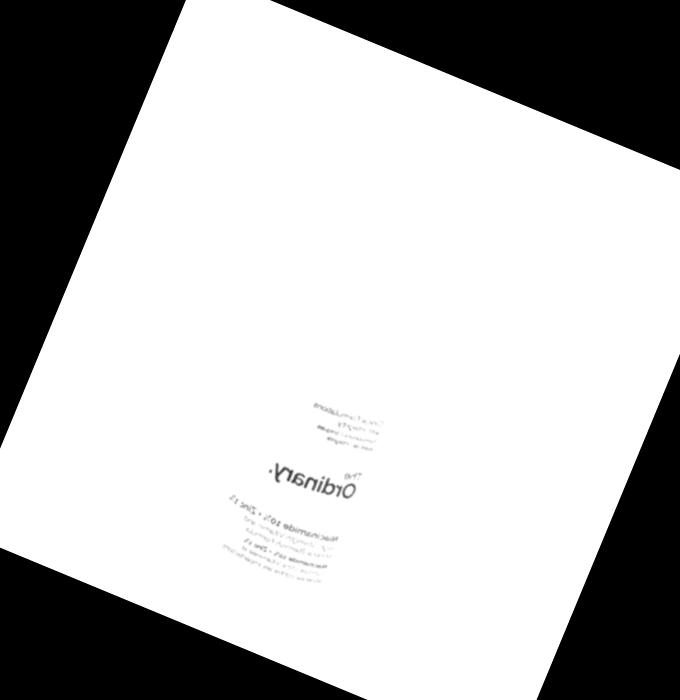cosmetic: (157, 90, 516, 641)
